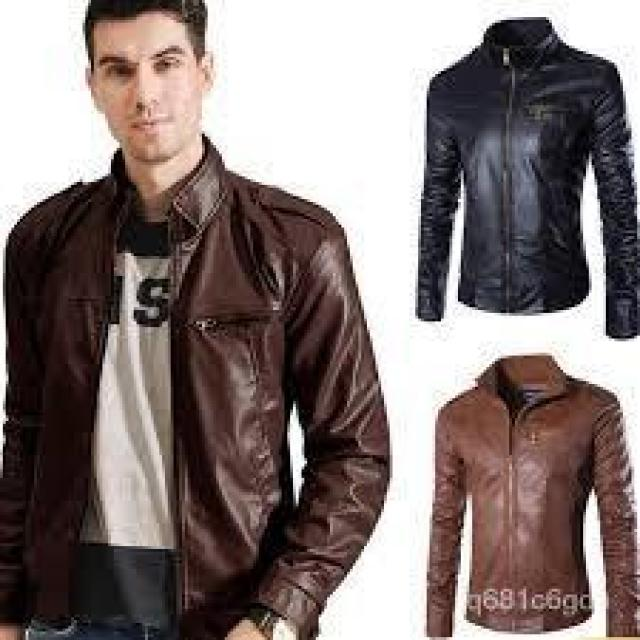jacket: (3, 136, 390, 640), (418, 16, 637, 334), (424, 364, 640, 637)
